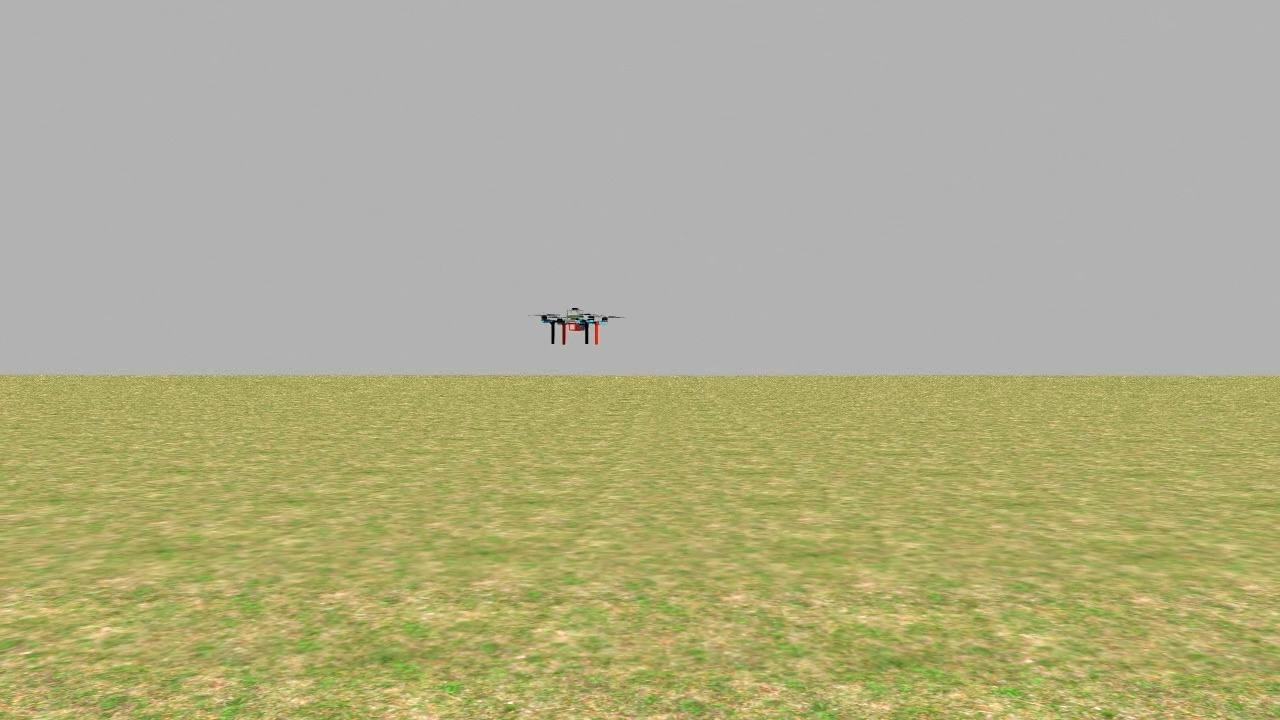UAV: (534, 288, 620, 356)
